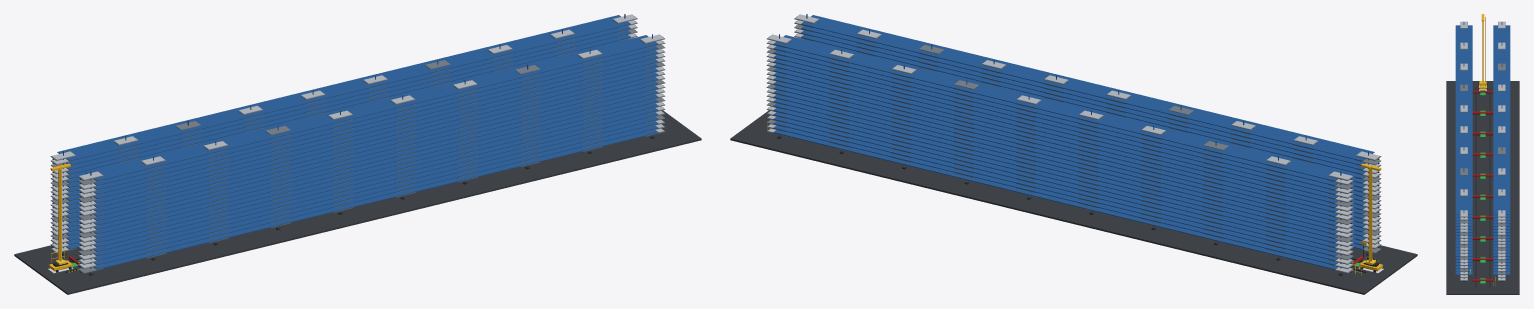
File: rack.glb
3 views of the same model, side by side, from view 1: azimuth 30°, elevation 25°; view 2: azimuth 150°, elevation 25°; view 3: azimuth 270°, elevation 25° (orthographic). The views are drawn at different scales.
Parts seen in each view (by area): view 1: FACTORY_FLOOR, RACK_BEAM_0_21, RACK_BEAM_1_21, RACK_BEAM_0_4, RACK_BEAM_0_7, RACK_BEAM_0_10, RACK_BEAM_0_13, RACK_BEAM_0_14, RACK_BEAM_0_3, RACK_BEAM_0_11, RACK_BEAM_0_17, RACK_BEAM_1_18 (+15 smaller); view 2: FACTORY_FLOOR, RACK_BEAM_0_21, RACK_BEAM_1_21, RACK_BEAM_1_4, RACK_BEAM_1_7, RACK_BEAM_1_10, RACK_BEAM_1_13, RACK_BEAM_1_14, RACK_BEAM_0_18, RACK_BEAM_1_3, RACK_BEAM_1_11, RACK_BEAM_1_17 (+15 smaller); view 3: FACTORY_FLOOR, RACK_BEAM_0_21, RACK_BEAM_1_21, GROUND_RAIL_0, GROUND_RAIL_1, CRANE_MAST, CRANE_MAST_REAR, CASSETTE_0_3_21, CASSETTE_0_7_21, CASSETTE_1_2_21, CASSETTE_1_6_21, STATION_STOP_1 (+3 smaller).
Boxes of the visible parts, box(x1,y1,x2,y2) form: FACTORY_FLOOR: box(14, 110, 701, 294); RACK_BEAM_0_21: box(85, 35, 658, 181); RACK_BEAM_1_21: box(57, 15, 630, 161); RACK_BEAM_0_4: box(93, 116, 658, 256); RACK_BEAM_0_7: box(93, 103, 658, 243); RACK_BEAM_0_10: box(93, 90, 658, 229); RACK_BEAM_0_13: box(93, 77, 658, 216); RACK_BEAM_0_14: box(93, 72, 658, 212); RACK_BEAM_0_3: box(93, 121, 658, 260); RACK_BEAM_0_11: box(94, 86, 658, 225); RACK_BEAM_0_17: box(93, 59, 658, 199); RACK_BEAM_1_18: box(66, 34, 630, 174); FACTORY_FLOOR: box(730, 110, 1417, 294); RACK_BEAM_0_21: box(801, 15, 1374, 161); RACK_BEAM_1_21: box(773, 35, 1346, 181); RACK_BEAM_1_4: box(773, 116, 1338, 256); RACK_BEAM_1_7: box(773, 103, 1338, 243); RACK_BEAM_1_10: box(773, 90, 1338, 229); RACK_BEAM_1_13: box(773, 77, 1338, 216); RACK_BEAM_1_14: box(773, 72, 1338, 212); RACK_BEAM_0_18: box(801, 34, 1365, 174); RACK_BEAM_1_3: box(773, 121, 1338, 260); RACK_BEAM_1_11: box(773, 86, 1337, 225); RACK_BEAM_1_17: box(773, 59, 1338, 199); FACTORY_FLOOR: box(1446, 81, 1519, 294); RACK_BEAM_0_21: box(1455, 25, 1472, 214); RACK_BEAM_1_21: box(1493, 25, 1510, 214); GROUND_RAIL_0: box(1475, 87, 1476, 286); GROUND_RAIL_1: box(1489, 87, 1490, 286); CRANE_MAST: box(1482, 16, 1483, 82); CRANE_MAST_REAR: box(1485, 16, 1485, 82); CASSETTE_0_3_21: box(1460, 84, 1467, 91); CASSETTE_0_7_21: box(1460, 168, 1467, 175); CASSETTE_1_2_21: box(1498, 63, 1505, 70); CASSETTE_1_6_21: box(1498, 147, 1505, 154); STATION_STOP_1: box(1472, 111, 1493, 113).
Size of the model in its own units: 96 by 15.24 by 14.
